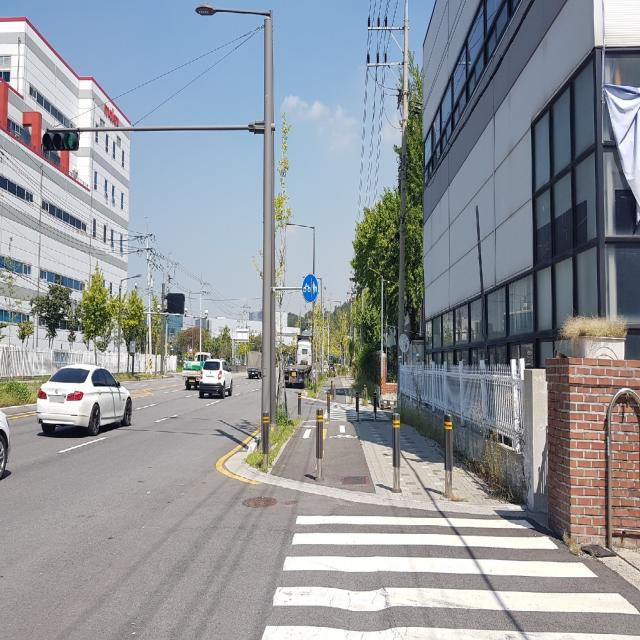횡단보도: (260, 512, 640, 640)
